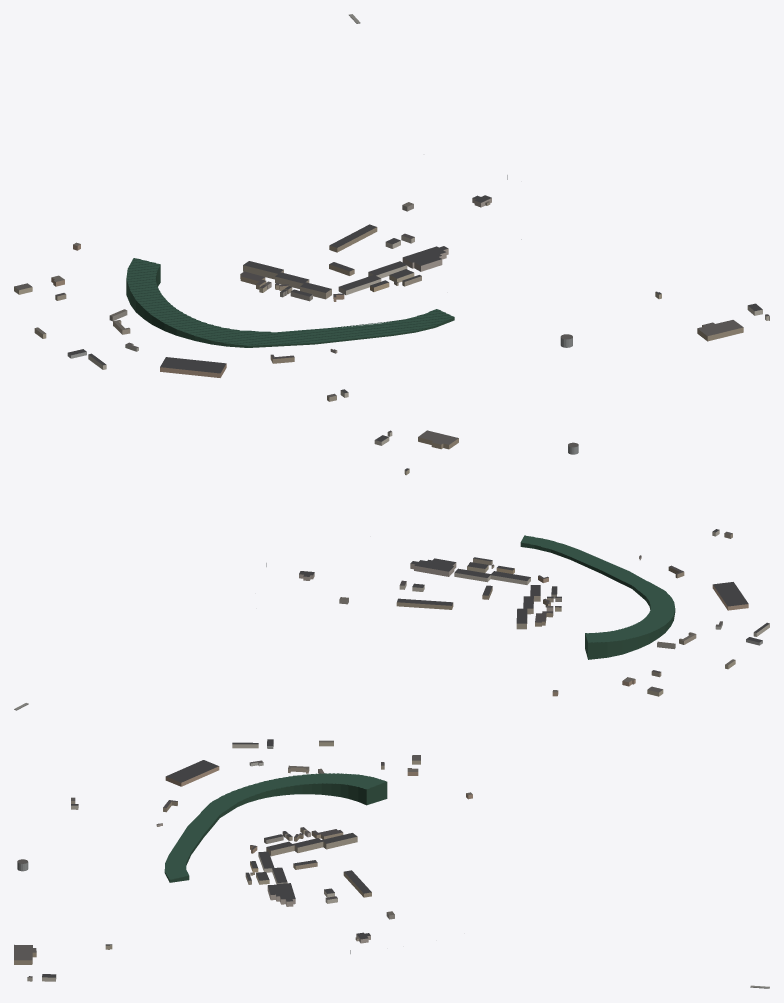
Rendered from scenery.glb.
3 views of the same model, one above another, from view 1: azimuth 30°, elevation 25°; view 2: azimuth 150°, elevation 25°; view 3: azimuth 270°, elevation 25° (orthographic). The views are drawn at different scales.
Parts seen in each view (by area): view 1: chunk_14_15, chunk_15_15, chunk_14_16, chunk_16_16; view 2: chunk_14_15, chunk_15_15, chunk_14_16, chunk_16_16; view 3: chunk_14_15, chunk_15_15, chunk_14_16, chunk_16_16.
Part boxes in pixels (x1=…): chunk_14_15: x1=14, y1=258, x2=454, y2=369; chunk_15_15: x1=243, y1=195, x2=521, y2=301; chunk_14_16: x1=160, y1=349, x2=348, y2=401; chunk_16_16: x1=655, y1=291, x2=769, y2=341; chunk_14_15: x1=520, y1=535, x2=769, y2=696; chunk_15_15: x1=299, y1=557, x2=548, y2=629; chunk_14_16: x1=639, y1=529, x2=748, y2=610; chunk_16_16: x1=374, y1=430, x2=458, y2=475; chunk_14_15: x1=164, y1=739, x2=420, y2=882; chunk_15_15: x1=245, y1=833, x2=394, y2=943; chunk_14_16: x1=71, y1=760, x2=219, y2=826; chunk_16_16: x1=14, y1=944, x2=112, y2=981.
Bounding box in the file's own units: 957 × 67.29 × 1260.
